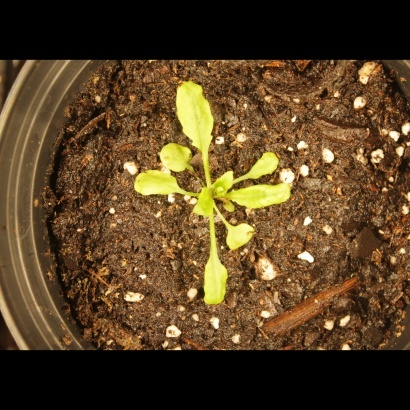leaf: (171, 77, 233, 155), (193, 247, 233, 310), (127, 164, 180, 207), (225, 181, 295, 213), (151, 138, 200, 176), (241, 151, 286, 184), (218, 217, 257, 252), (185, 183, 218, 219), (209, 166, 241, 197)
